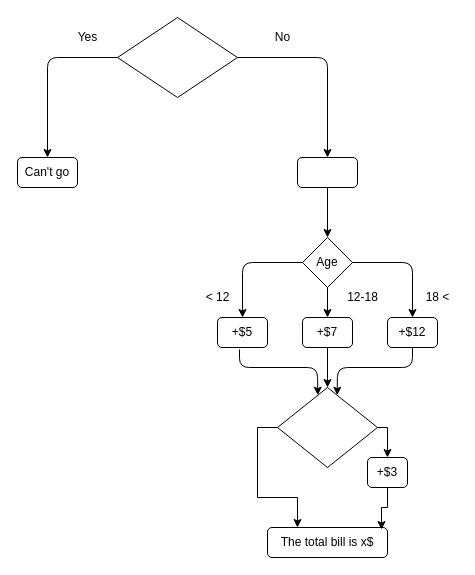
Image size: 475x575. Some labels were removed from this diagram. Each missing label, with the box of its shape:
Can go: (296, 156, 358, 188)
Height < 120cm: (116, 16, 238, 98)
Want photos?: (276, 386, 378, 468)
